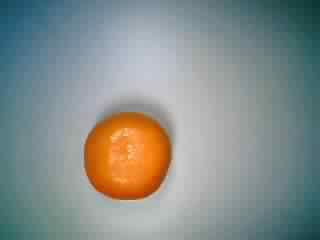orange: (76, 107, 172, 203)
